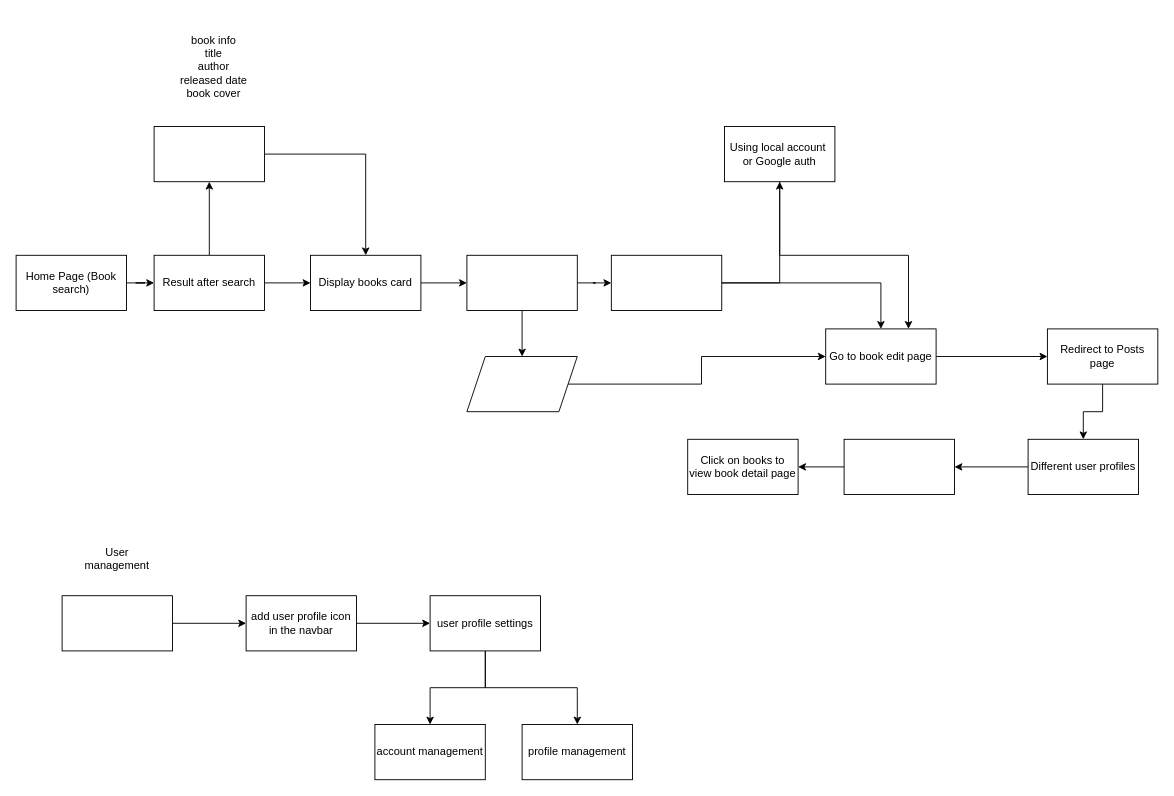
The diagram is 1174 pixels wide and 796 high, and some of its shapes have lost their labels. The shapes that lost their labels are listed below. From the top down, each one's centre as x and y in pixels, then its label:
At (208,154): "Request API to get book info".
At (521,282): "option to add books".
At (666,282): "Ask for login".
At (521,384): "if login".
At (898,466): "info about user and lists of users books".
At (116,623): "before login no user icon on navbar".
